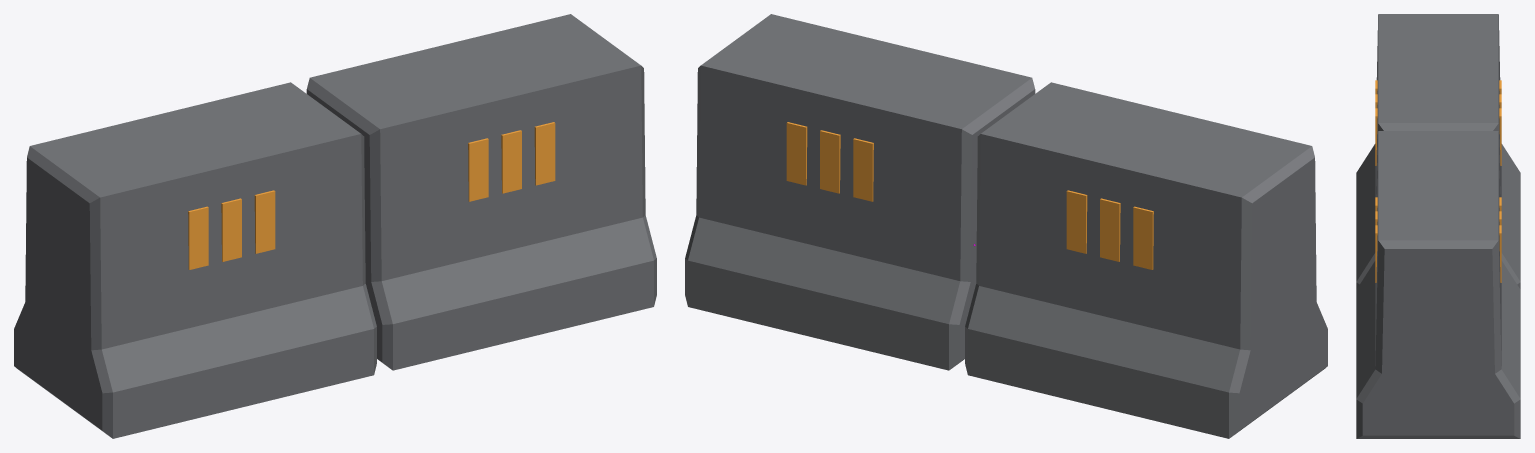
File: Barrier.glb
3 renders of one model, left to right at view 1: azimuth 30°, elevation 25°; view 2: azimuth 150°, elevation 25°; view 3: azimuth 270°, elevation 25°, orthographic. The views are drawn at different scales.
Parts seen in each view (by area): view 1: Concrete, Accent; view 2: Concrete, Accent; view 3: Concrete, Accent.
Boxes of the visible parts, x1,y1,x2,y2 form: Concrete: (14, 14, 656, 438); Accent: (188, 122, 555, 269); Concrete: (685, 14, 1327, 438); Accent: (786, 122, 1153, 269); Concrete: (1356, 14, 1520, 438); Accent: (1375, 80, 1501, 282).
Bounding box in the file's own units: 10 × 4 × 3.
